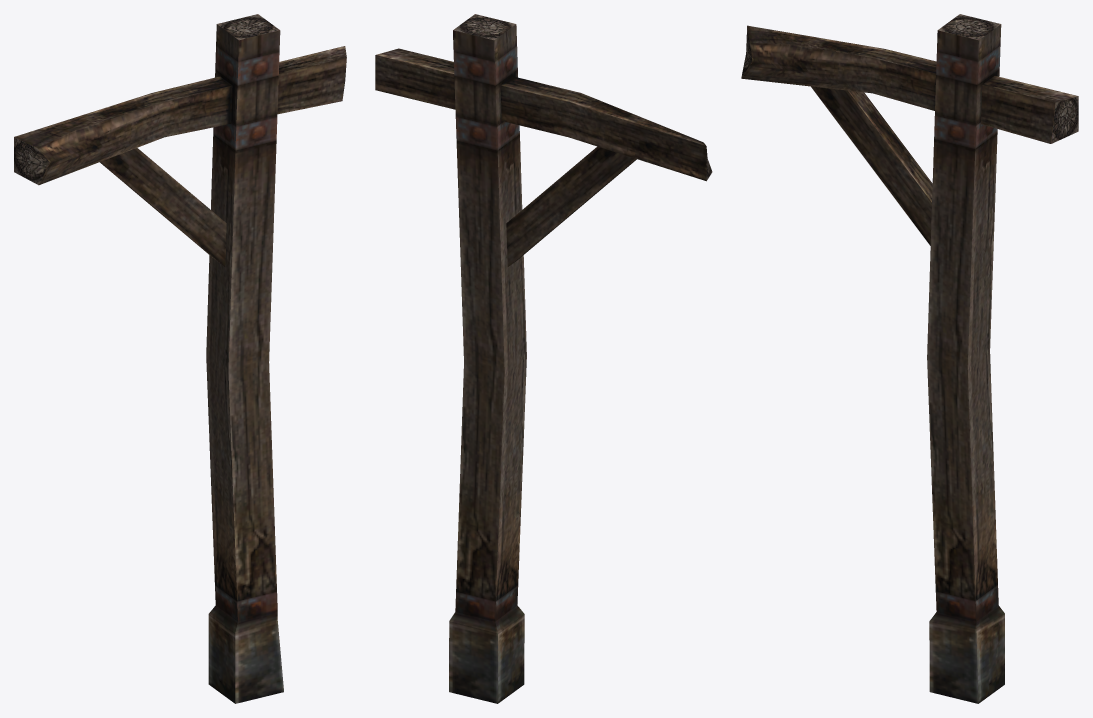
Rendered from GY_ludeng002.fbx.
The picture shows the model from 3 angles, left to right: view 1: azimuth 30°, elevation 25°; view 2: azimuth 150°, elevation 25°; view 3: azimuth 330°, elevation 25°; orthographic projection.
Visible parts, largest first — view 1: GY_ludeng002; view 2: GY_ludeng002; view 3: GY_ludeng002.
Boxes of the visible parts, bbox=[...] form: GY_ludeng002: bbox=[14, 14, 346, 703]; GY_ludeng002: bbox=[375, 14, 712, 703]; GY_ludeng002: bbox=[741, 14, 1078, 703].
Bounding box in the file's own units: 242 × 462 × 33.7.
